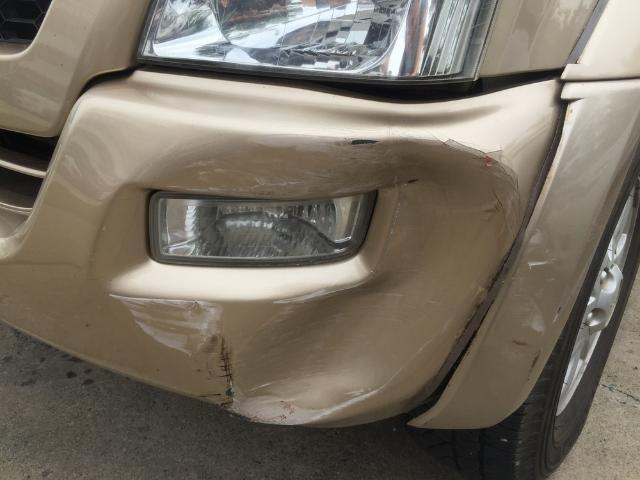dent: (236, 138, 522, 424)
scratch: (104, 292, 239, 411), (172, 128, 382, 200)
